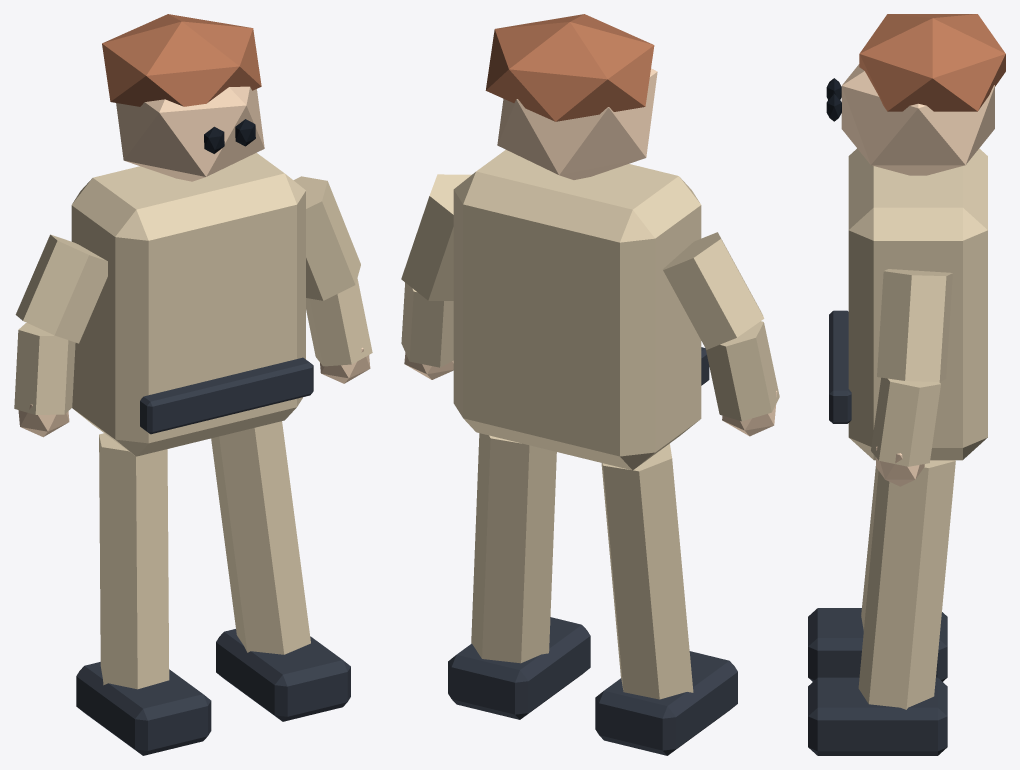
Rendered from npcs_029_seed78877.glb.
The picture shows the model from 3 angles, left to right: view 1: azimuth 30°, elevation 25°; view 2: azimuth 150°, elevation 25°; view 3: azimuth 270°, elevation 25°; orthographic projection. The views are drawn at different scales.
Parts seen in each view (by area): view 1: npcs_029_seed78877; view 2: npcs_029_seed78877; view 3: npcs_029_seed78877.
Boxes of the visible parts, x1,y1,x2,y2 form: npcs_029_seed78877: [14, 14, 372, 755]; npcs_029_seed78877: [401, 14, 779, 755]; npcs_029_seed78877: [808, 14, 1005, 755].
Bounding box in the file's own units: 0.9216 × 1.68 × 0.4398.
